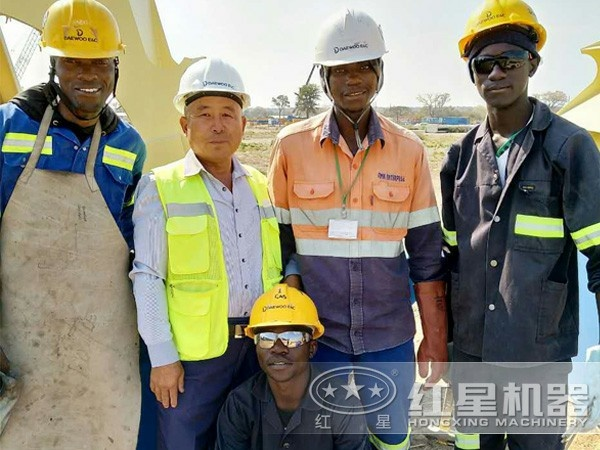white: (164, 56, 259, 164), (304, 6, 393, 114)
yellow: (37, 4, 132, 113), (459, 5, 550, 112), (244, 277, 326, 384)
